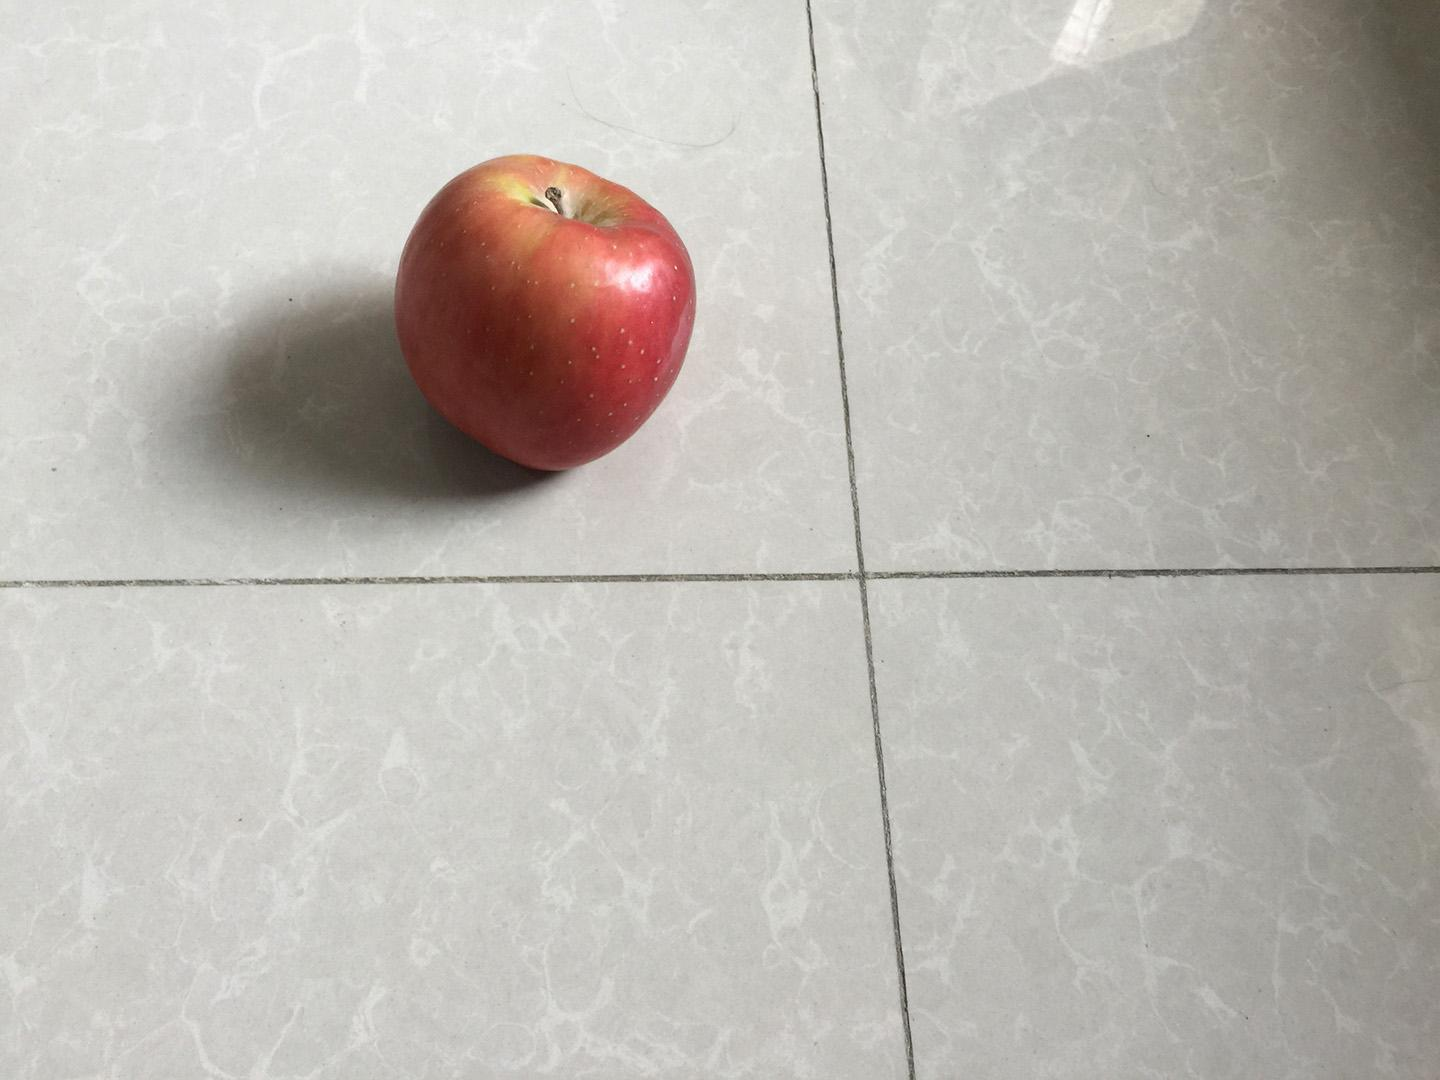apple: (388, 147, 708, 482)
